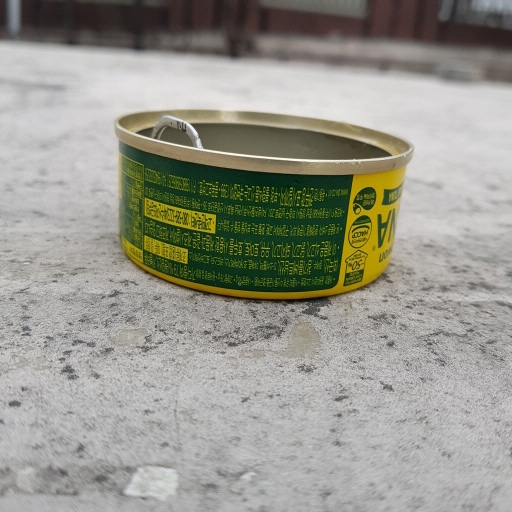Metal_1: (112, 103, 416, 310)
